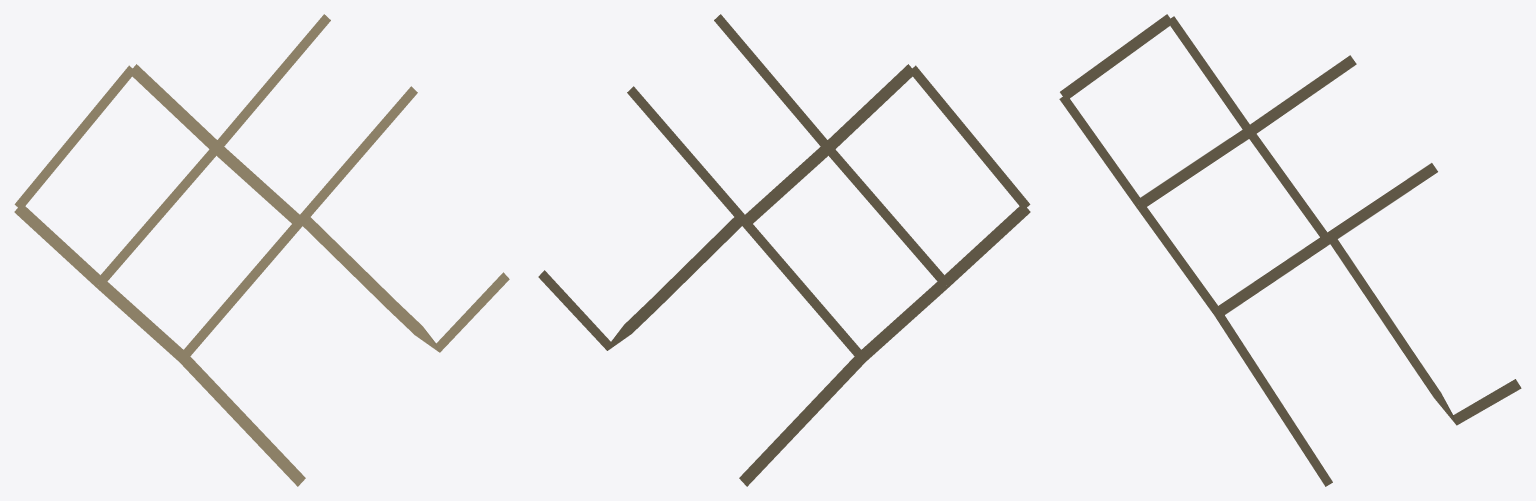
File: edges.glb
3 views of the same model, side by side, from view 1: azimuth 30°, elevation 25°; view 2: azimuth 150°, elevation 25°; view 3: azimuth 330°, elevation 25° (orthographic). The views are drawn at different scales.
Parts seen in each view (by area): view 1: urn:npust:smart-agriculture-management-platform:edge:visitor (×11); view 2: urn:npust:smart-agriculture-management-platform:edge:visitor (×11); view 3: urn:npust:smart-agriculture-management-platform:edge:visitor (×11).
Part boxes in pixels (x1,y1,x2,y2): urn:npust:smart-agriculture-management-platform:edge:visitor (×11): (14,14,509,486); urn:npust:smart-agriculture-management-platform:edge:visitor (×11): (538,14,1030,486); urn:npust:smart-agriculture-management-platform:edge:visitor (×11): (1059,14,1521,486).
Bounding box in the file's own units: 94.95 × 85.67 × 0.577.
